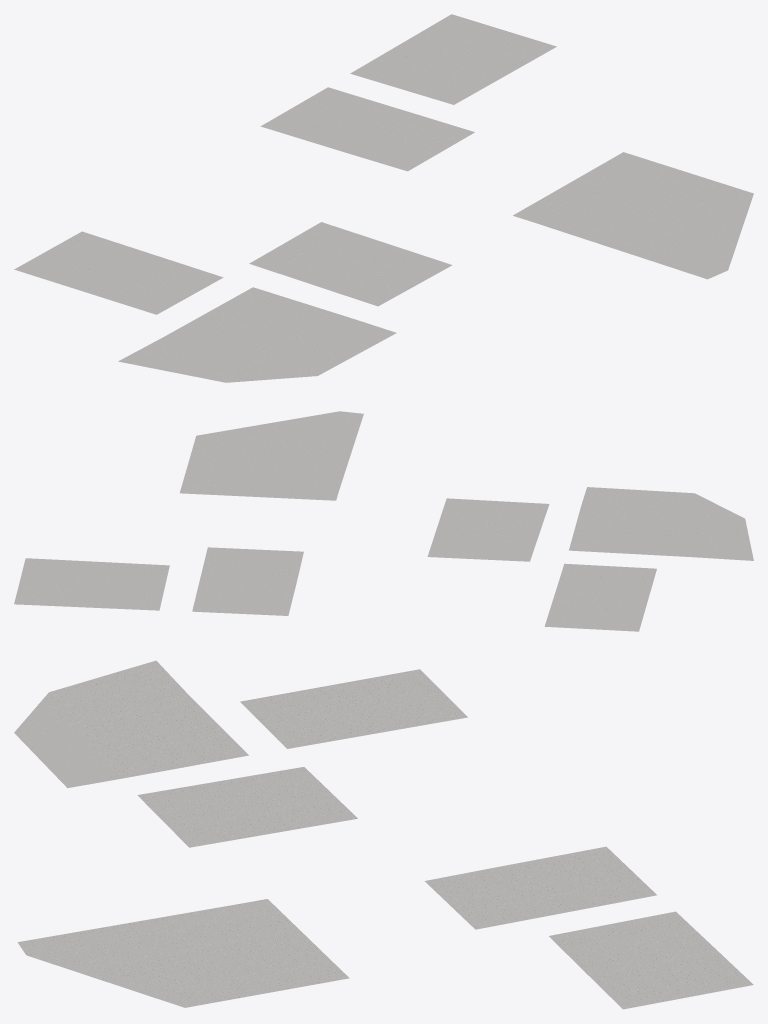
File: kd_stage_136599_16_0.glb
The picture shows the model from 3 angles, top to bottom: view 1: azimuth 30°, elevation 25°; view 2: azimuth 150°, elevation 25°; view 3: azimuth 270°, elevation 25°; orthographic projection. The views are drawn at different scales.
Visible parts, largest first — view 1: kd_stage_136599_16_0; view 2: kd_stage_136599_16_0; view 3: kd_stage_136599_16_0.
Part boxes in pixels (left/top/right/bottom): kd_stage_136599_16_0: left=14, top=14, right=753, bottom=382; kd_stage_136599_16_0: left=14, top=411, right=753, bottom=631; kd_stage_136599_16_0: left=14, top=660, right=753, bottom=1009.
Bounding box in the file's own units: 42.93 × 0 × 38.47.
1 material, 1 textured.
